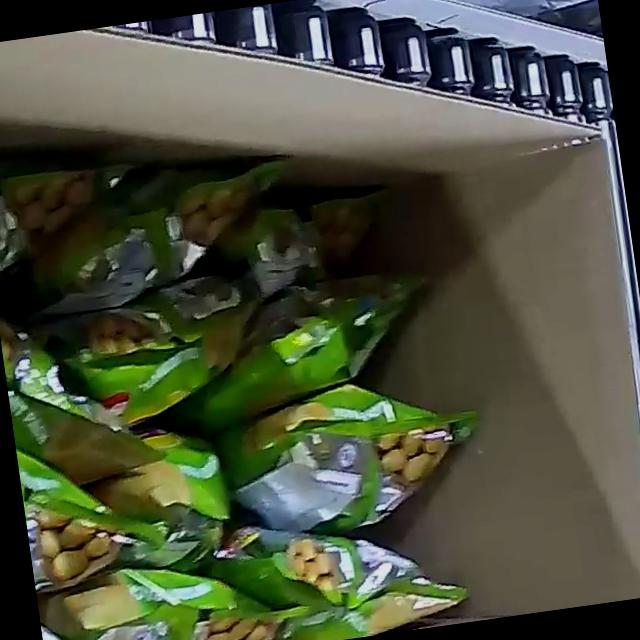yogurt: (0, 98, 508, 640)
